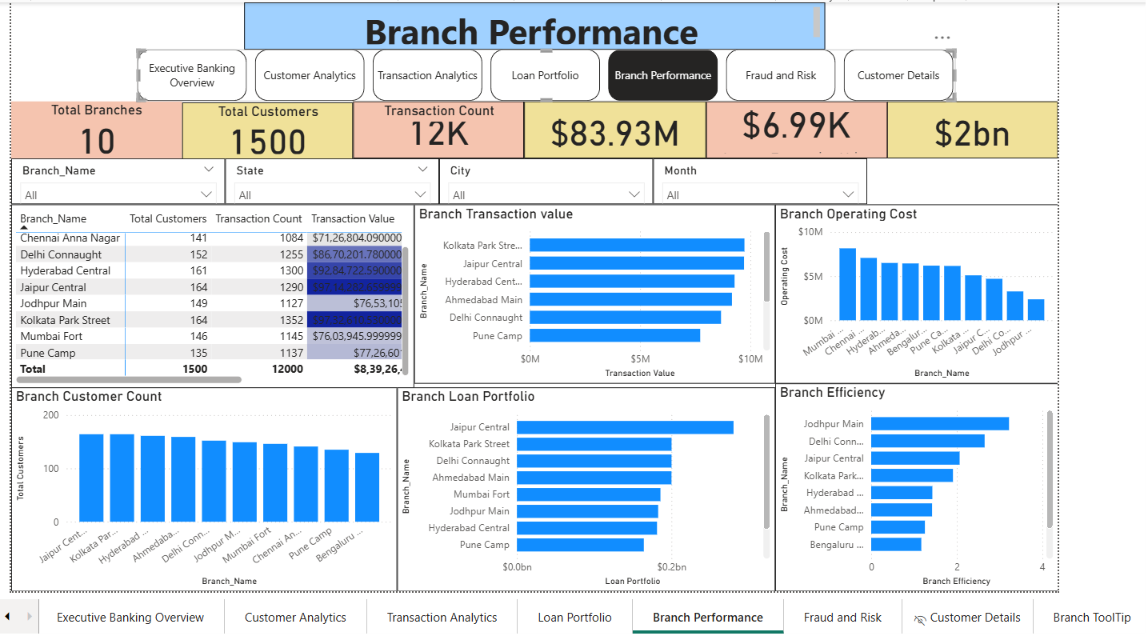

The dashboard page shown, as its layout file describes it:
{"tool":"powerbi","page":{"name":"Branch Performance","canvas":[1280,720],"ordinal":4},"visuals":[{"type":"card","title":"Total Branches","fields":{"Values":["Branches.Total Branches"]},"box":[0,121.1,209.1,69.7],"z":0},{"type":"card","fields":{"Values":["Loans.Loan Portfolio"]},"box":[1071.2,121.1,209.1,69.7],"z":1000},{"type":"card","fields":{"Values":["Transactions.Average Transaction Value"]},"box":[849.9,121.1,221.3,69.7],"z":2000},{"type":"card","title":"Total Customers","fields":{"Values":["Customers.Total Customers"]},"box":[209.1,122.3,209.1,69.7],"z":3000},{"type":"card","title":"Transaction Count","fields":{"Values":["Transactions.Transaction Count"]},"box":[418.2,121.1,209.1,69.7],"z":4000},{"type":"card","fields":{"Values":["Transactions.Transaction Value"]},"box":[627.3,121.1,222.6,69.7],"z":5000},{"type":"textbox","box":[284.9,0,710.5,57.5],"z":6000},{"type":"pivotTable","fields":{"Rows":["Branches.Branch_Name"],"Values":["Customers.Total Customers","Transactions.Transaction Count","Transactions.Transaction Value","Loans.Total Loans","Loans.Outstanding Amount"]},"box":[0,247,462.2,225],"z":7000},{"type":"barChart","title":"Branch Transaction value","fields":{"Y":["Transactions.Transaction Value"],"Category":["Branches.Branch_Name"]},"box":[472,253.1,462.2,212.8],"z":8000},{"type":"columnChart","title":"Branch Customer Count","fields":{"Y":["Customers.Total Customers"],"Category":["Branches.Branch_Name"]},"box":[0,470.8,452.4,249.5],"z":9000},{"type":"barChart","title":"Branch Loan Portfolio","fields":{"Y":["Loans.Loan Portfolio"],"Category":["Branches.Branch_Name"]},"box":[472,470.8,462.2,249.5],"z":10000},{"type":"clusteredColumnChart","title":"Branch Operating Cost","fields":{"Category":["Branches.Branch_Name"],"Y":["Branches.Operating Cost"]},"box":[934.2,253.1,346.1,225],"z":11000},{"type":"clusteredBarChart","title":"Branch Efficiency ","fields":{"Y":["Branches.Branch Efficiency"],"Category":["Branches.Branch_Name"]},"box":[934.2,465.9,346.1,254.3],"z":12000},{"type":"slicer","fields":{"Values":["Branches.Branch_Name"]},"box":[0,190.8,261.7,56.3],"z":13000},{"type":"slicer","fields":{"Values":["Date.Month"]},"box":[785.1,190.8,261.7,56.3],"z":14000},{"type":"slicer","fields":{"Values":["Branches.State"]},"box":[261.7,190.8,261.7,56.3],"z":15000},{"type":"slicer","fields":{"Values":["Customers.City"]},"box":[523.4,190.8,261.7,56.3],"z":16000},{"type":"pageNavigator","box":[154.1,70.9,1000.3,50.1],"z":16001}]}

Visuals, with their boxes on the page's 1280x720 design canvas (x1, y1, x2, y2). These are canvas units, not pixel positions in the 1146x634 screenshot, which may show the page scaled, cropped or inside an application window:
"Total Branches" card: bbox(0, 121, 209, 191)
card - Loans.Loan Portfolio: bbox(1071, 121, 1280, 191)
card - Transactions.Average Transaction Value: bbox(850, 121, 1071, 191)
"Total Customers" card: bbox(209, 122, 418, 192)
"Transaction Count" card: bbox(418, 121, 627, 191)
card - Transactions.Transaction Value: bbox(627, 121, 850, 191)
textbox: bbox(285, 0, 995, 58)
pivotTable - Branches.Branch_Name x Customers.Total Customers: bbox(0, 247, 462, 472)
"Branch Transaction value" barChart: bbox(472, 253, 934, 466)
"Branch Customer Count" columnChart: bbox(0, 471, 452, 720)
"Branch Loan Portfolio" barChart: bbox(472, 471, 934, 720)
"Branch Operating Cost" clusteredColumnChart: bbox(934, 253, 1280, 478)
"Branch Efficiency " clusteredBarChart: bbox(934, 466, 1280, 720)
slicer - Branches.Branch_Name: bbox(0, 191, 262, 247)
slicer - Date.Month: bbox(785, 191, 1047, 247)
slicer - Branches.State: bbox(262, 191, 523, 247)
slicer - Customers.City: bbox(523, 191, 785, 247)
pageNavigator: bbox(154, 71, 1154, 121)
